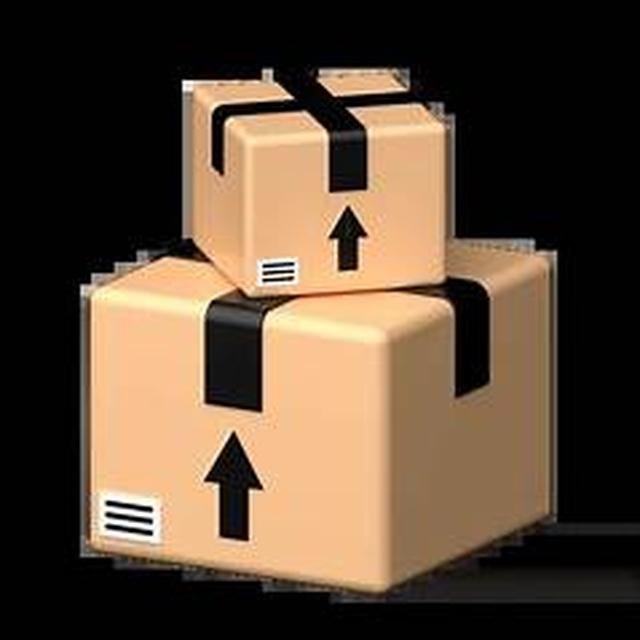box: (59, 222, 575, 582), (144, 46, 500, 303)
